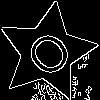O: (22, 27, 82, 87)
